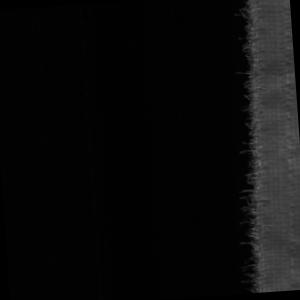Damage: (225, 1, 282, 295)
